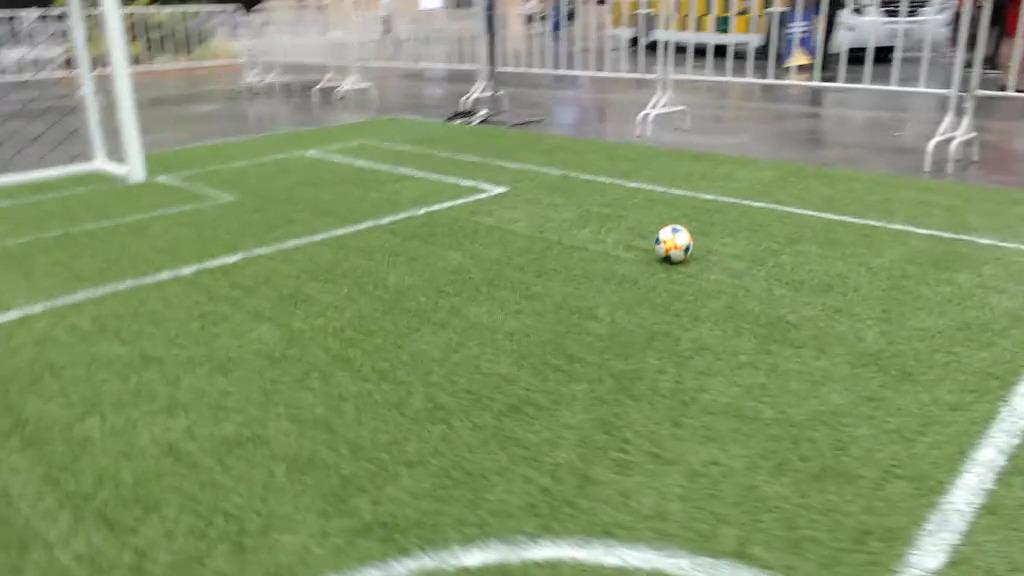ball: (655, 223, 691, 263)
